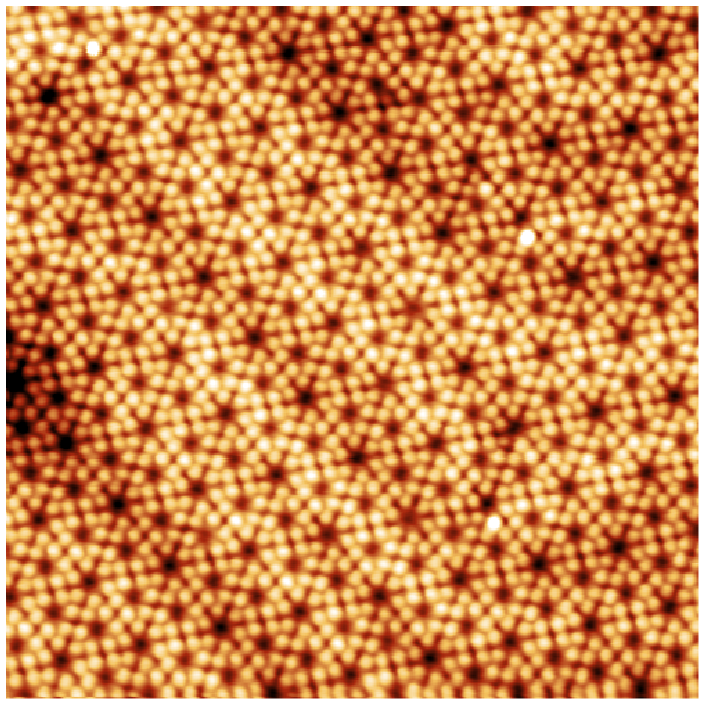L: (25, 70, 73, 119), (104, 56, 152, 105), (186, 42, 234, 91), (265, 29, 313, 78), (345, 14, 393, 63), (424, 2, 472, 51), (77, 131, 125, 180), (157, 117, 205, 166), (237, 103, 285, 152), (317, 89, 365, 138), (397, 74, 445, 123), (476, 59, 524, 108), (555, 45, 603, 94), (636, 29, 684, 78), (49, 205, 97, 254), (129, 193, 177, 242), (208, 177, 256, 226), (288, 163, 336, 212), (367, 149, 415, 198), (447, 134, 495, 183), (527, 120, 575, 169), (607, 103, 655, 152), (21, 282, 69, 331), (100, 267, 148, 316), (181, 253, 229, 302), (260, 237, 308, 286), (340, 223, 388, 272), (420, 209, 468, 258), (499, 194, 547, 243), (578, 178, 626, 227), (657, 163, 705, 212), (71, 342, 119, 391), (152, 328, 200, 377), (231, 313, 279, 362), (311, 299, 359, 348), (390, 283, 438, 332), (471, 268, 519, 317), (552, 253, 600, 302), (631, 237, 679, 286), (43, 419, 91, 468), (123, 404, 171, 453), (202, 388, 250, 437), (282, 374, 330, 423), (362, 358, 410, 407), (442, 343, 490, 392), (522, 327, 570, 376), (601, 312, 649, 361), (652, 370, 700, 419), (573, 387, 621, 436), (494, 403, 542, 452), (415, 418, 463, 467), (335, 433, 383, 482), (253, 448, 301, 497), (174, 464, 222, 513), (94, 479, 142, 528), (14, 495, 62, 544), (67, 556, 115, 605), (145, 541, 193, 590), (226, 526, 274, 575), (306, 509, 354, 558), (384, 494, 432, 543), (466, 480, 514, 529), (545, 463, 593, 512), (623, 447, 671, 496), (39, 636, 87, 685), (117, 619, 165, 668), (197, 603, 245, 652), (276, 587, 324, 636), (358, 570, 406, 619), (437, 554, 485, 603), (517, 540, 565, 589), (597, 523, 645, 572), (647, 584, 695, 633), (567, 600, 615, 649), (489, 615, 537, 664), (409, 632, 457, 681), (328, 649, 376, 698), (1, 145, 48, 194)
R: (547, 2, 596, 50), (17, 26, 66, 73), (60, 39, 109, 86), (96, 11, 145, 58), (141, 28, 190, 75), (221, 14, 270, 61), (301, 1, 350, 48), (388, 31, 437, 78), (468, 16, 517, 63), (512, 32, 561, 79), (592, 16, 641, 63), (599, 60, 648, 107), (563, 91, 612, 138), (518, 77, 567, 124), (643, 76, 692, 123), (432, 46, 481, 93), (352, 61, 401, 108), (309, 45, 358, 92), (271, 76, 320, 123), (228, 59, 277, 106), (192, 88, 241, 135), (149, 72, 198, 119), (112, 104, 161, 151), (70, 85, 119, 132), (32, 118, 81, 165), (4, 194, 53, 241), (41, 163, 90, 210), (84, 178, 133, 225), (120, 148, 169, 195), (164, 165, 213, 212), (199, 133, 248, 180), (244, 150, 293, 197), (280, 120, 329, 167), (323, 136, 372, 183), (360, 106, 409, 153), (404, 120, 453, 167), (440, 91, 489, 138), (484, 107, 533, 154), (650, 121, 699, 168), (614, 150, 663, 197), (571, 135, 620, 182), (536, 166, 585, 213), (490, 151, 539, 198), (455, 182, 504, 229), (412, 166, 461, 213), (375, 195, 424, 242), (332, 179, 381, 226), (295, 210, 344, 257), (252, 193, 301, 240), (216, 224, 265, 271), (172, 210, 221, 257), (136, 239, 185, 286), (93, 223, 142, 270), (56, 253, 105, 300), (13, 239, 62, 286), (28, 328, 77, 375), (64, 299, 113, 346), (107, 315, 156, 362), (144, 285, 193, 332), (186, 300, 235, 347), (223, 269, 272, 316), (266, 285, 315, 332), (303, 254, 352, 301), (346, 271, 395, 318), (384, 239, 433, 286), (425, 256, 474, 303), (463, 225, 512, 272), (506, 242, 555, 289), (542, 210, 591, 257), (586, 225, 635, 272), (622, 195, 671, 242), (637, 284, 686, 331), (594, 270, 643, 317), (559, 300, 608, 347), (515, 284, 564, 331), (478, 314, 527, 361), (434, 298, 483, 345), (399, 329, 448, 376), (353, 315, 402, 362), (317, 346, 366, 393), (274, 330, 323, 377), (237, 360, 286, 407), (194, 345, 243, 392), (158, 376, 207, 423), (115, 360, 164, 407), (78, 390, 127, 437), (35, 374, 84, 421), (7, 452, 56, 499), (51, 466, 100, 513), (87, 436, 136, 483), (131, 451, 180, 498), (167, 421, 216, 468), (211, 435, 260, 482), (247, 406, 296, 453), (290, 421, 339, 468), (325, 390, 374, 437), (370, 406, 419, 453), (406, 375, 455, 422), (450, 390, 499, 437), (485, 359, 534, 406), (529, 375, 578, 422), (565, 344, 614, 391), (609, 360, 658, 407), (644, 328, 693, 375), (656, 418, 705, 465), (616, 403, 665, 450), (579, 434, 628, 481), (536, 419, 585, 466), (501, 450, 550, 497), (457, 434, 506, 481), (421, 466, 470, 513), (378, 450, 427, 497), (341, 481, 390, 528), (298, 465, 347, 512), (262, 496, 311, 543), (218, 480, 267, 527), (182, 512, 231, 559), (137, 497, 186, 544), (102, 528, 151, 575), (59, 511, 108, 558), (23, 543, 72, 590), (29, 588, 78, 635), (73, 606, 122, 653), (109, 575, 158, 622), (153, 590, 202, 637), (191, 558, 240, 605), (233, 573, 282, 620), (269, 542, 318, 589), (312, 556, 361, 603), (349, 527, 398, 574), (393, 542, 442, 589), (428, 511, 477, 558), (472, 526, 521, 573), (509, 495, 558, 542), (552, 509, 601, 556), (588, 479, 637, 526), (631, 493, 680, 540), (639, 538, 688, 585), (602, 571, 651, 618), (559, 556, 608, 603), (523, 587, 572, 634), (479, 571, 528, 618), (444, 602, 493, 649), (400, 587, 449, 634), (363, 619, 412, 666), (320, 604, 369, 651), (285, 636, 334, 683), (240, 620, 289, 667), (205, 652, 254, 699), (160, 637, 209, 684), (83, 652, 132, 699), (450, 651, 499, 698), (531, 633, 580, 680), (575, 650, 624, 697), (609, 615, 658, 662), (654, 631, 703, 678), (1, 405, 49, 452), (177, 1, 226, 47)
